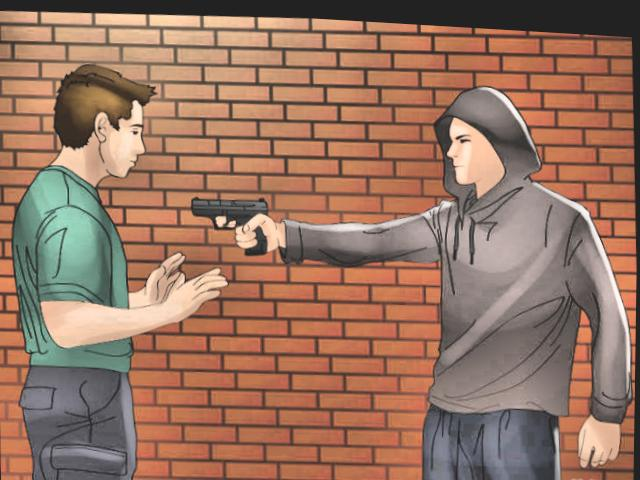pistol: (191, 187, 276, 257)
